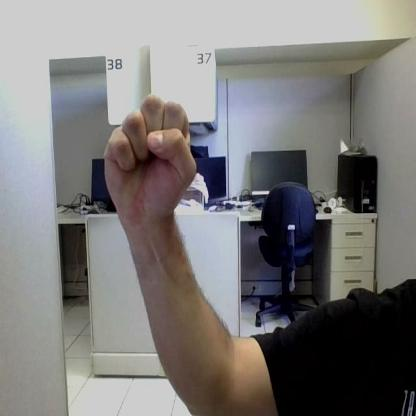S: (105, 96, 195, 216)
